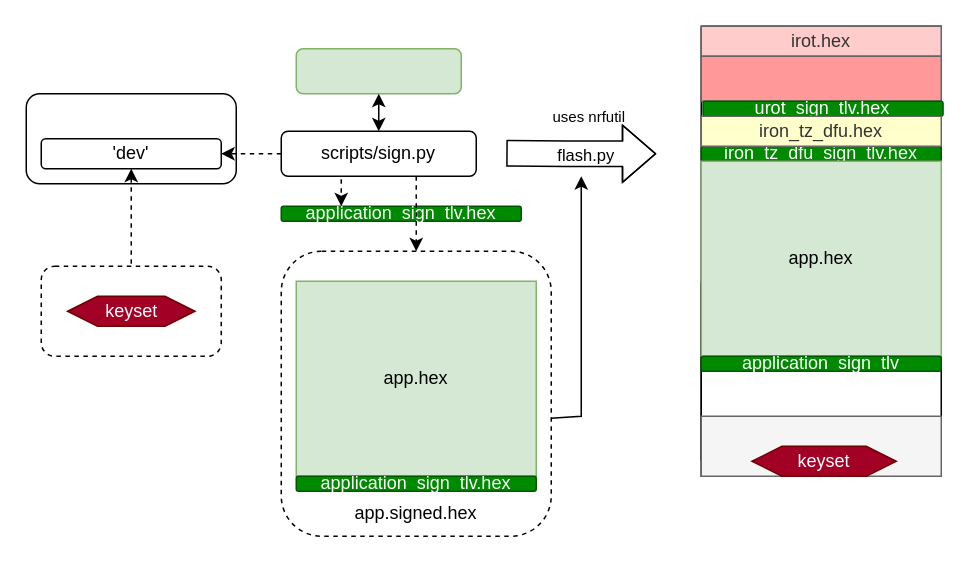
Some shapes in this 971 by 563 pixel diagram are drawn without their labels. The box of each missing label's shape, as (x1, y1, x2, y2) in pixels:
build/app.hex: (295, 47, 461, 94)
OS keyring: (25, 92, 236, 184)
UICR: (700, 415, 941, 476)
urot.hex: (700, 55, 941, 101)
